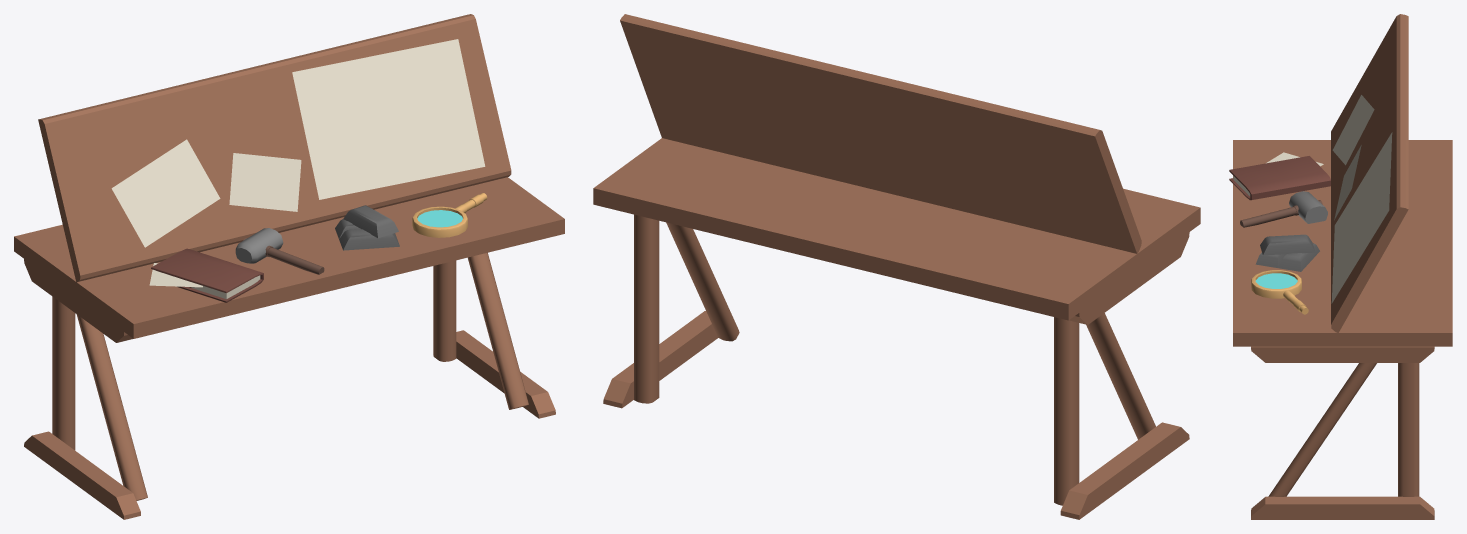
The model's file is Workbench.fbx.
3 views of the same model, side by side, from view 1: azimuth 30°, elevation 25°; view 2: azimuth 150°, elevation 25°; view 3: azimuth 270°, elevation 25° (orthographic). The views are drawn at different scales.
Visible parts, largest first — view 1: Cube.003, Cube, Plane, Plane.001, Cube.009, Plane.002, Cube.007, Cube.005, Cube.008, Cube.010, Cube.004, Cube.002 (+5 smaller); view 2: Cube.003, Cube, Cube.004, Cube.008, Cube.007, Cube.002, Cube.009, Cube.005, Cube.006; view 3: Cube, Cube.003, Plane, Cube.002, Cube.010, Cube.001, Cube.004, Cube.005, Cylinder, Cube.014, Plane.001, Cube.013 (+3 smaller).
Part boxes in pixels (bbox=[...]): Cube.003: bbox=[38, 14, 511, 282]; Cube: bbox=[14, 177, 564, 338]; Plane: bbox=[292, 39, 485, 199]; Plane.001: bbox=[111, 139, 220, 247]; Cube.009: bbox=[76, 314, 147, 500]; Plane.002: bbox=[229, 153, 301, 211]; Cube.007: bbox=[24, 431, 140, 519]; Cube.005: bbox=[468, 252, 528, 409]; Cube.008: bbox=[52, 296, 75, 450]; Cube.010: bbox=[151, 248, 263, 302]; Cube.004: bbox=[433, 260, 456, 361]; Cube.002: bbox=[456, 330, 555, 418]; Cube.003: bbox=[620, 14, 1141, 253]; Cube: bbox=[593, 138, 1200, 320]; Cube.004: bbox=[634, 214, 659, 403]; Cube.008: bbox=[1054, 317, 1079, 505]; Cube.007: bbox=[1060, 422, 1189, 519]; Cube.002: bbox=[603, 311, 717, 408]; Cube.009: bbox=[1086, 313, 1155, 439]; Cube.005: bbox=[666, 222, 739, 341]; Cube.006: bbox=[1069, 232, 1189, 324]; Cube: bbox=[1233, 140, 1452, 346]; Cube.003: bbox=[1331, 14, 1408, 332]; Plane: bbox=[1331, 132, 1392, 303]; Cube.002: bbox=[1251, 496, 1434, 519]; Cube.010: bbox=[1229, 156, 1330, 200]; Cube.001: bbox=[1251, 346, 1434, 362]; Cube.004: bbox=[1398, 363, 1419, 496]; Cube.005: bbox=[1268, 363, 1376, 496]; Cylinder: bbox=[1251, 270, 1308, 314]; Cube.014: bbox=[1240, 191, 1327, 227]; Plane.001: bbox=[1332, 95, 1374, 165]; Cube.013: bbox=[1260, 234, 1315, 255].
Size of the model in its own units: 417 by 313 by 203.
1 material, 1 textured.
